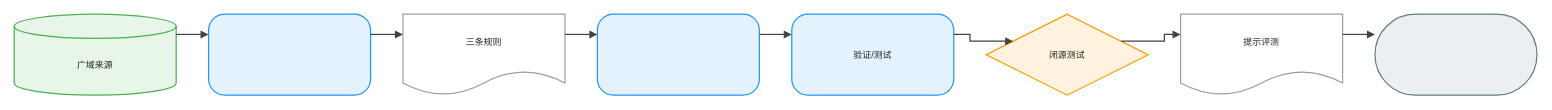
The diagram is 1552 pixels wide and 110 high, and some of its shapes have lost their labels. The shapes that lost their labels are listed below. From the top down, each one's box as (x1, y1, x2, y2) in pixels, then its label:
(208, 13, 371, 95): 多选题池
(596, 13, 760, 95): 干净集合
(1374, 13, 1537, 95): 准确率
